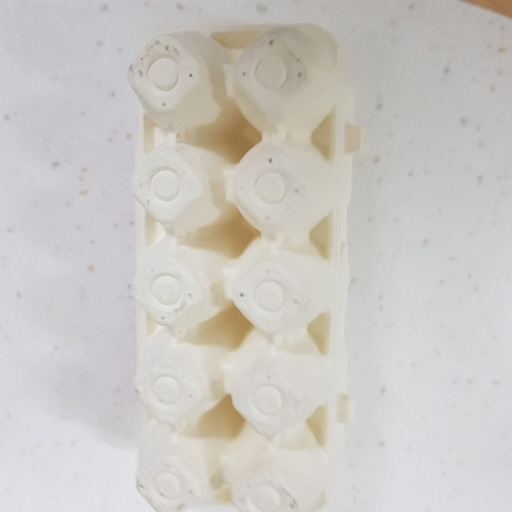Paper_0: (125, 21, 372, 512)
